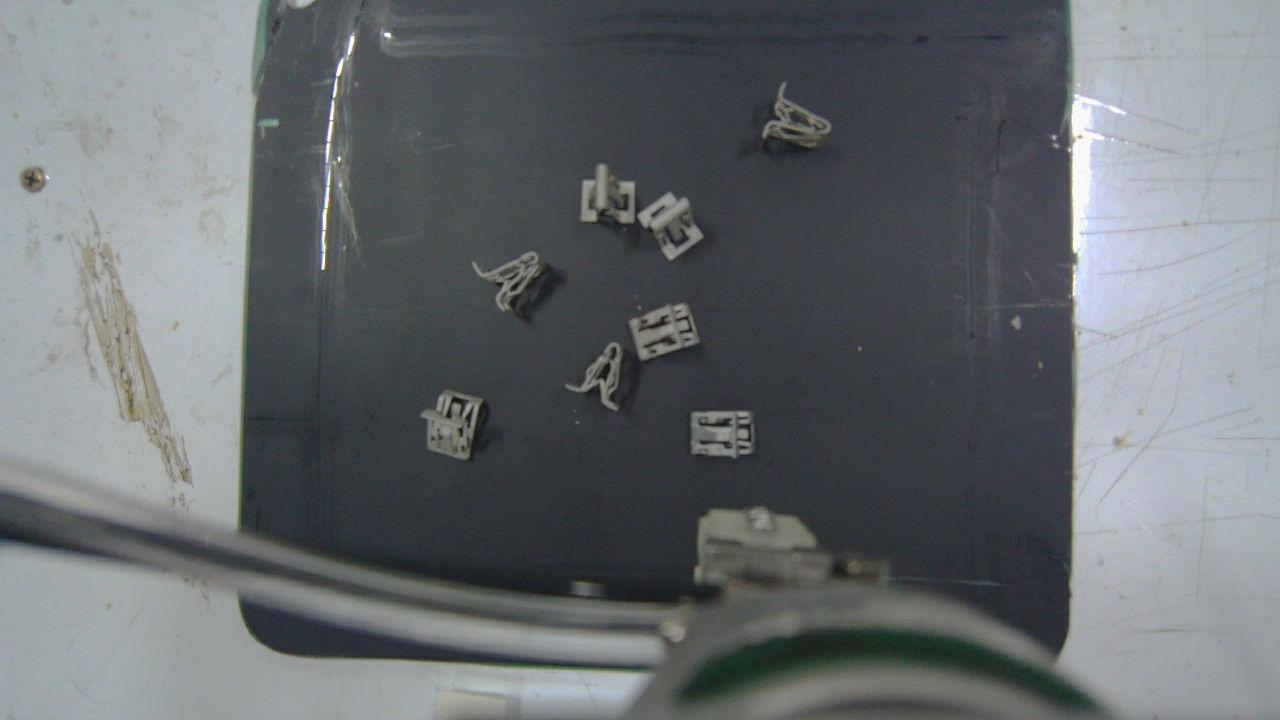ng: (759, 78, 830, 149), (422, 390, 482, 460), (472, 254, 544, 312), (628, 303, 700, 361), (568, 344, 621, 412), (691, 412, 756, 456)
pass: (639, 192, 702, 262), (581, 162, 635, 224)
